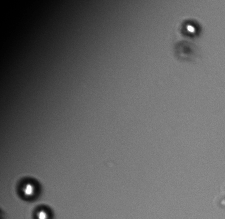Dead Cell: (175, 40, 197, 58)
Living Cell: (16, 176, 43, 201), (181, 19, 202, 38)
